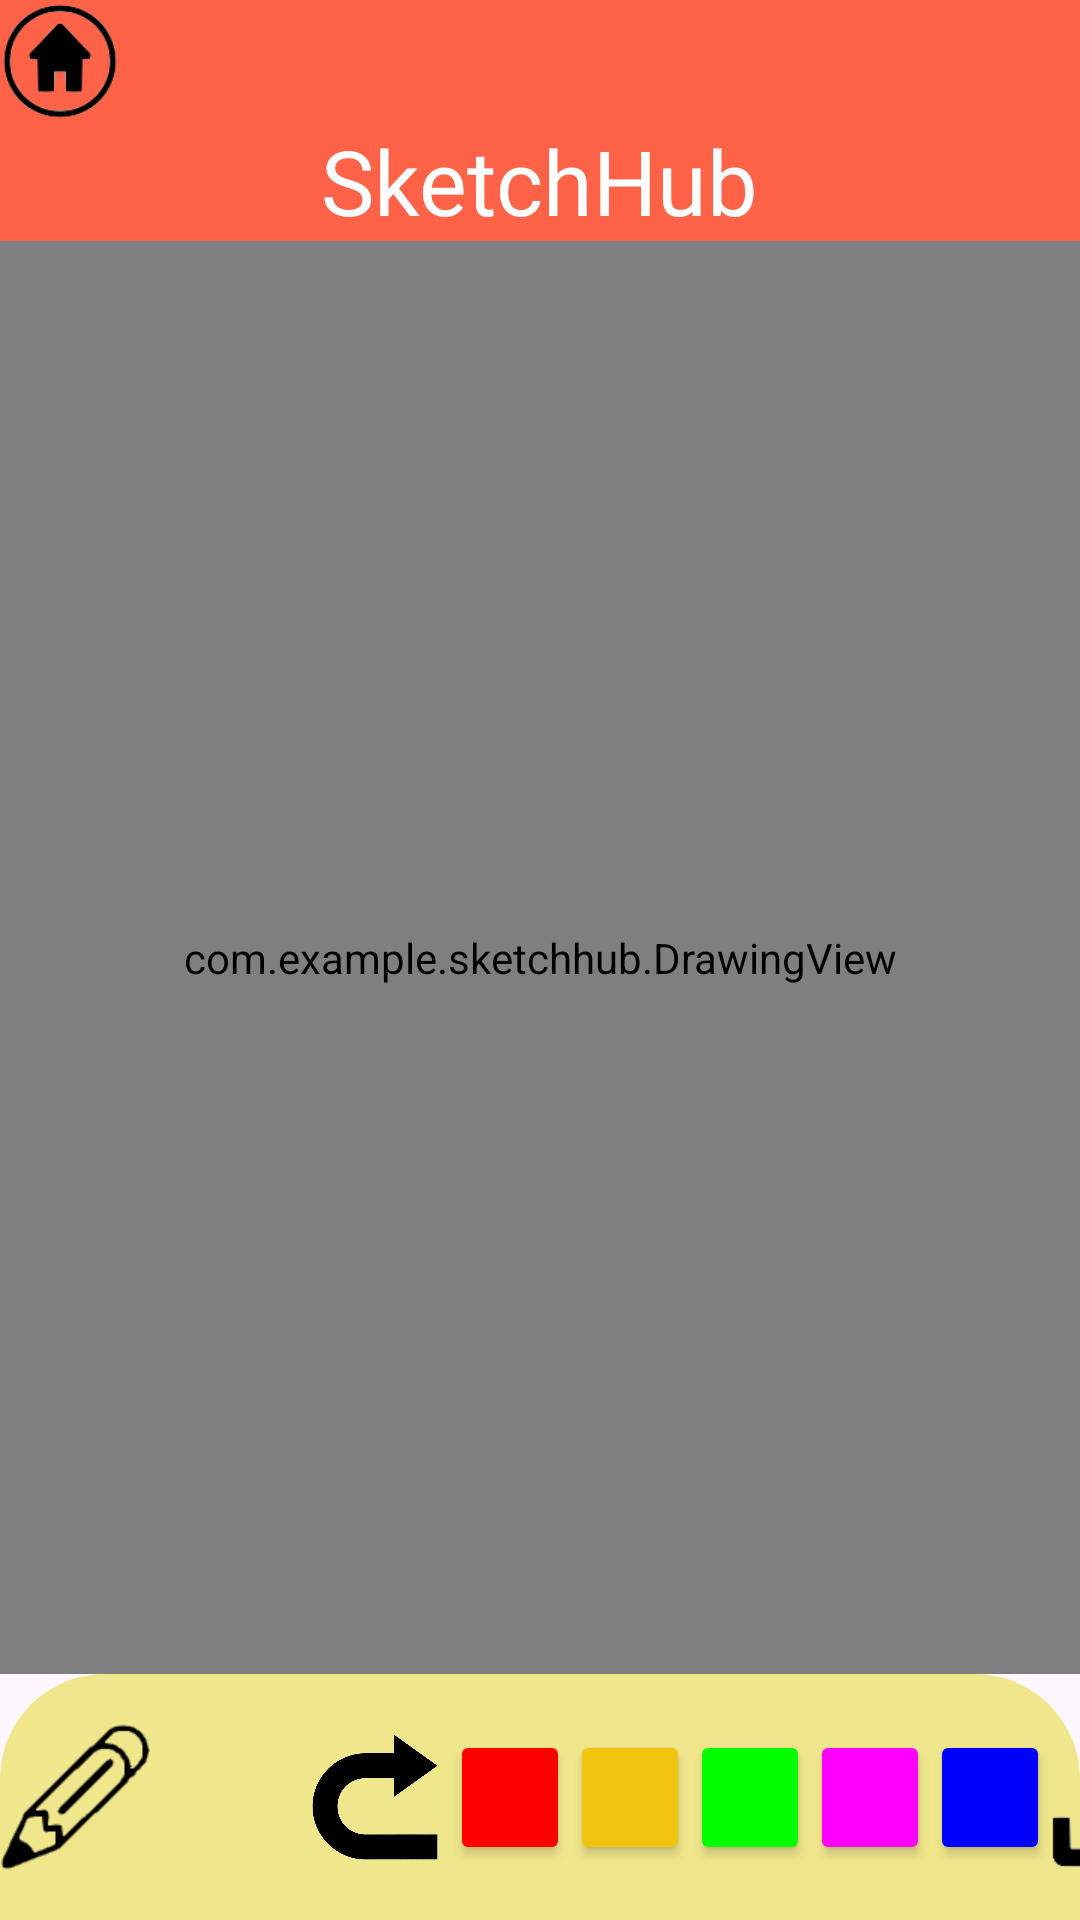

Screen size 1080px×1920px. Icon name, then its box in pixels as bbox=[x1, y1, x2, y2]:
home: bbox=[3, 5, 117, 118]
pencil: bbox=[1, 1725, 150, 1869]
redo: bbox=[312, 1735, 438, 1860]
